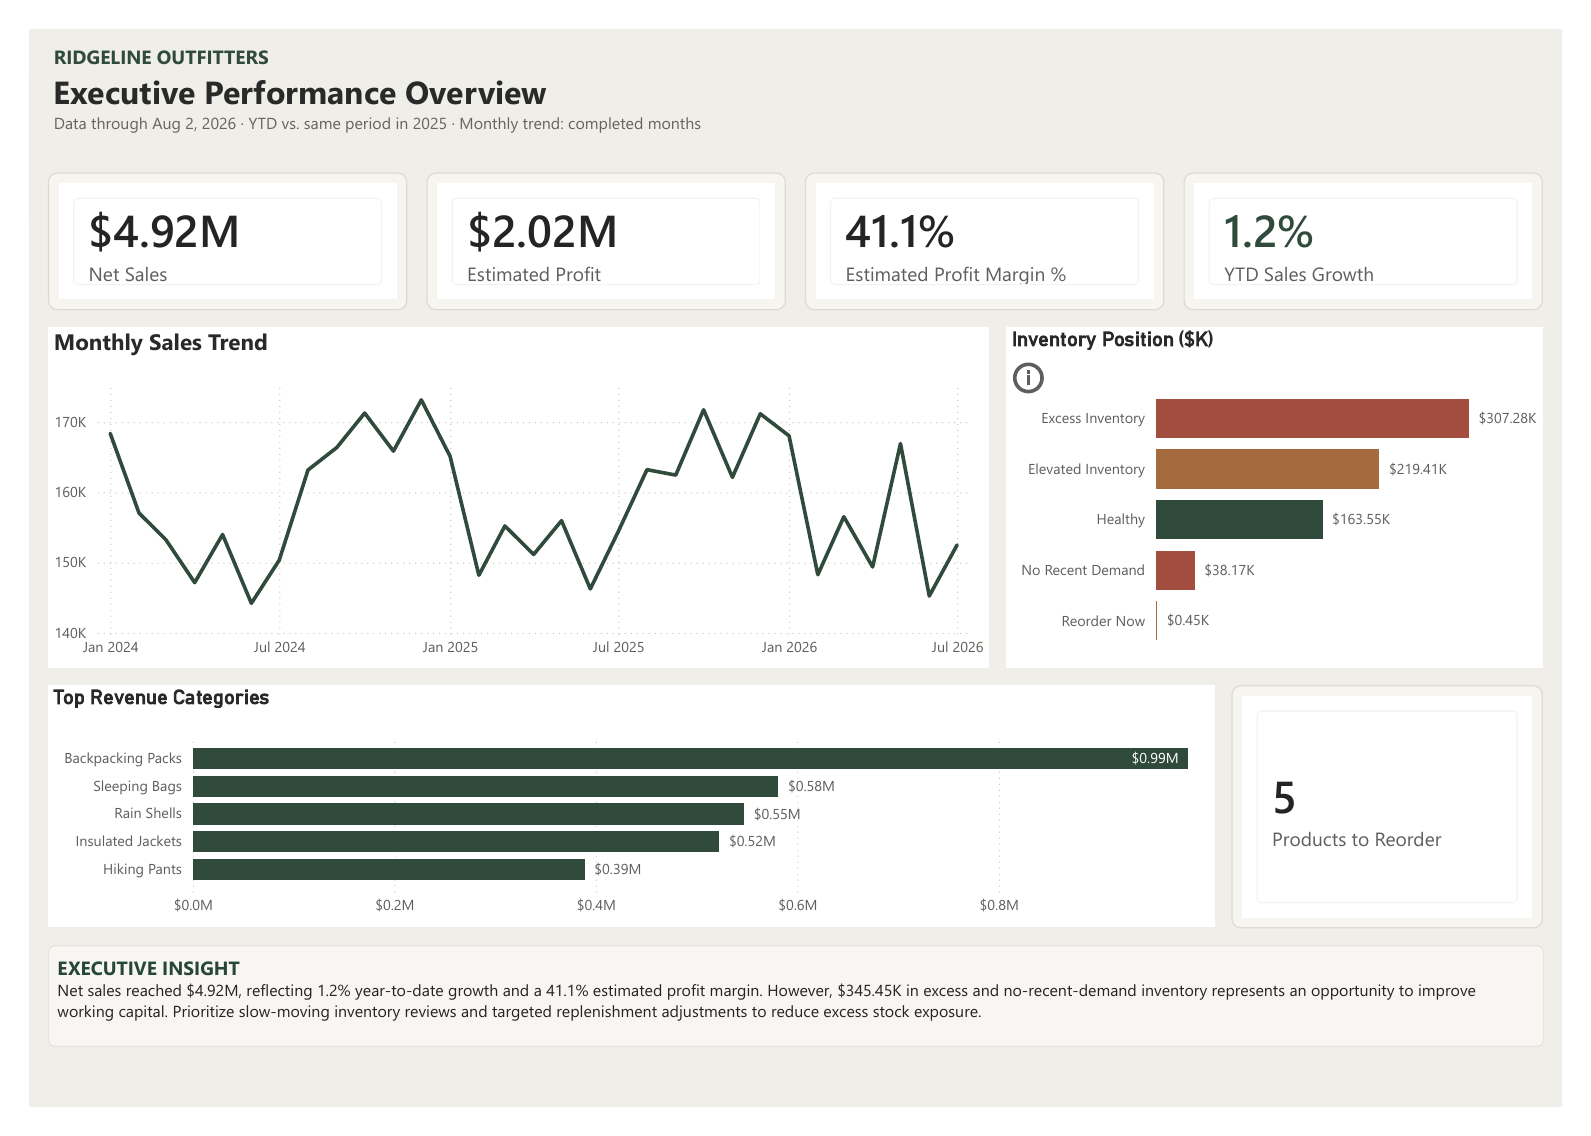

Layout of this report page (visuals, bound fields, positions):
{"tool":"powerbi","page":{"name":"Executive Overview","canvas":[1280,900],"ordinal":0},"visuals":[{"type":"cardVisual","fields":{"Data":["_Measures.Net Sales"]},"box":[16,120,300,115],"z":0},{"type":"textbox","box":[16,8,599.7,130],"z":1000},{"type":"cardVisual","fields":{"Data":["_Measures.Estimated Profit"]},"box":[332,120,300,115],"z":2000},{"type":"cardVisual","fields":{"Data":["_Measures.Profit Margin %"]},"box":[648,120,300,115],"z":3000},{"type":"cardVisual","fields":{"Data":["_Measures.Net Sales YTD Growth Aligned %"]},"box":[964,120,300,115],"z":4000},{"type":"lineChart","title":"Monthly Sales Trend","fields":{"Category":["Date.Month Start"],"Y":["_Measures.Net Sales Completed Months"]},"box":[16,249,786,285.4],"z":5000},{"type":"clusteredBarChart","title":"Inventory Position ($K)","fields":{"Category":["gold_inventory_demand_planning.ReplenishmentRecommendation"],"Y":["_Measures.Inventory Value"]},"box":[816,249,448,285],"z":6000},{"type":"cardVisual","fields":{"Data":["_Measures.Products Requiring Reorder"]},"box":[1004,548,260,203],"z":7000},{"type":"clusteredBarChart","title":"Top Revenue Categories","fields":{"Category":["gold_sales_performance.Category"],"Y":["_Measures.Net Sales"]},"box":[16,548,974,202.2],"z":8000},{"type":"actionButton","box":[816.5,273.9,67.2,35.3],"z":9000},{"type":"textbox","box":[15.9,765,1249,85],"z":10000}]}

Visuals, with their boxes in screenshot pixels (x1, y1, x2, y2), scaled from the page's 1280x900 canvas onto the 1591x1136 screenshot:
cardVisual - _Measures.Net Sales: left=20, top=151, right=393, bottom=297
textbox: left=20, top=10, right=765, bottom=174
cardVisual - _Measures.Estimated Profit: left=413, top=151, right=786, bottom=297
cardVisual - _Measures.Profit Margin %: left=805, top=151, right=1178, bottom=297
cardVisual - _Measures.Net Sales YTD Growth Aligned %: left=1198, top=151, right=1571, bottom=297
"Monthly Sales Trend" lineChart: left=20, top=314, right=997, bottom=675
"Inventory Position ($K)" clusteredBarChart: left=1014, top=314, right=1571, bottom=674
cardVisual - _Measures.Products Requiring Reorder: left=1248, top=692, right=1571, bottom=948
"Top Revenue Categories" clusteredBarChart: left=20, top=692, right=1231, bottom=947
actionButton: left=1015, top=346, right=1098, bottom=390
textbox: left=20, top=966, right=1572, bottom=1073
